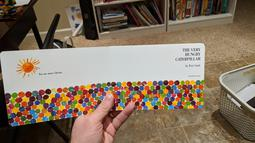text block: (173, 45, 204, 71), (37, 69, 69, 77), (184, 73, 202, 78)
